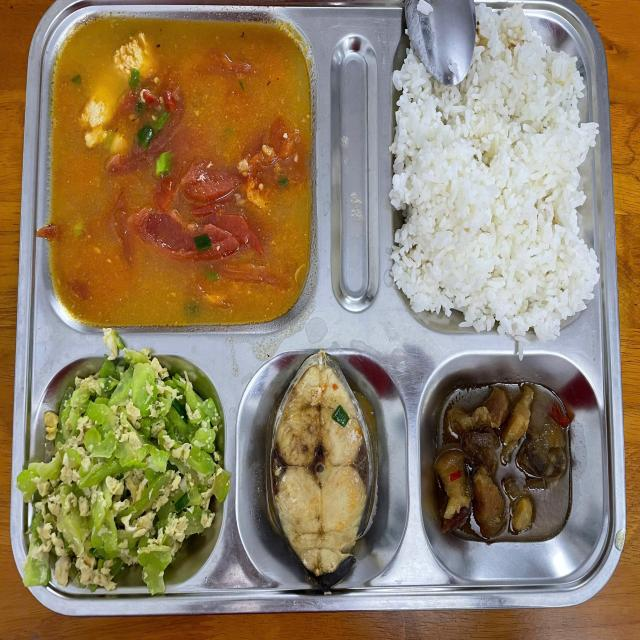cakho: (262, 363, 385, 584)
canhmay: (56, 28, 304, 316)
salad: (402, 25, 590, 334)
tomramthit: (436, 382, 569, 548)
vung: (32, 356, 220, 590)
